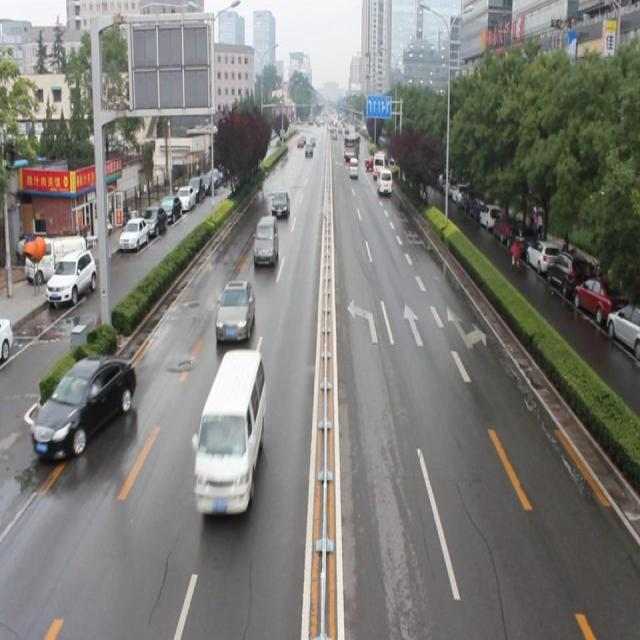car: (29, 357, 138, 462), (214, 280, 256, 341), (271, 190, 290, 218)
truck: (188, 348, 266, 517), (251, 212, 278, 266), (375, 167, 392, 197), (371, 148, 383, 177), (348, 156, 358, 181)
